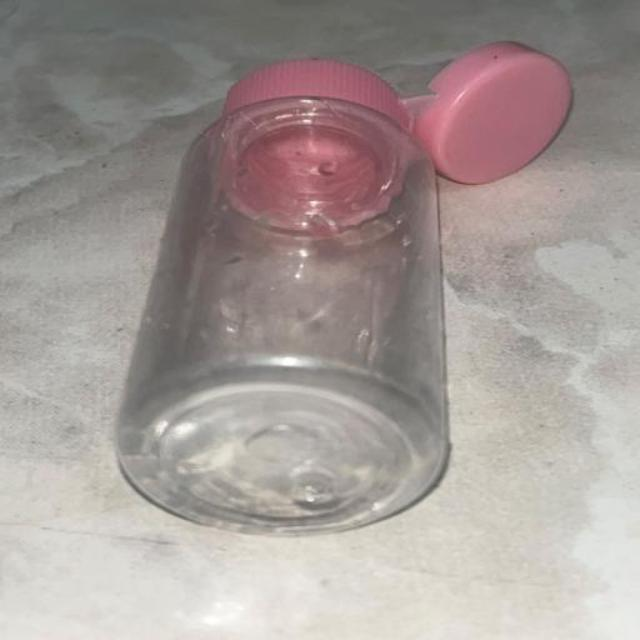PET: (75, 19, 594, 538)
